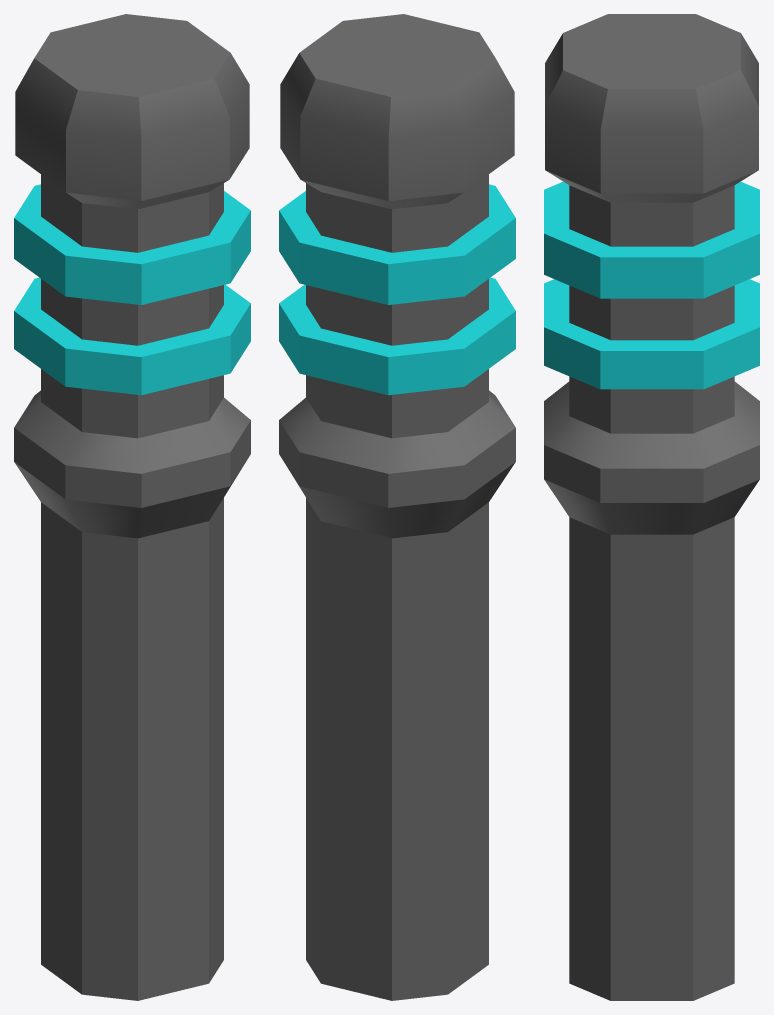
The model's file is Stolb.fbx.
3 renders of one model, left to right at view 1: azimuth 30°, elevation 25°; view 2: azimuth 150°, elevation 25°; view 3: azimuth 270°, elevation 25°, orthographic.
Visible parts, largest first — view 1: Stolb; view 2: Stolb; view 3: Stolb.
Part boxes in pixels (x1,y1,x2,y2): Stolb: (14, 14, 250, 1000); Stolb: (279, 14, 515, 1000); Stolb: (544, 14, 759, 1000).
Bounding box in the file's own units: 20.47 × 95.66 × 20.47.
